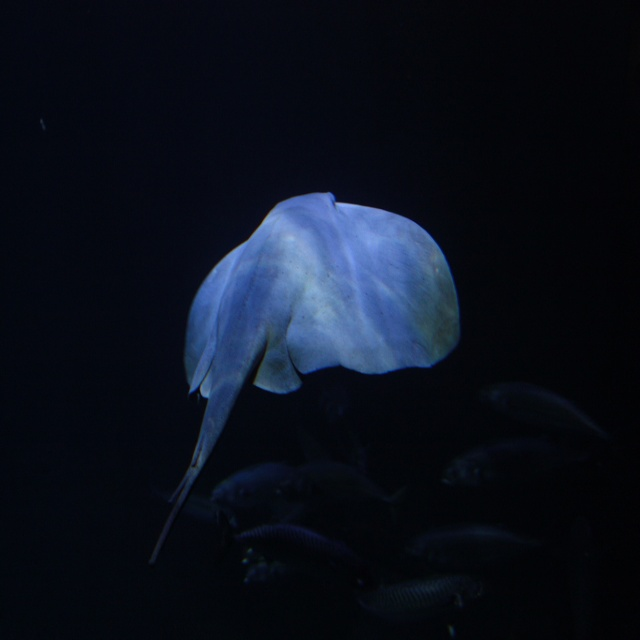Jellyfish: (150, 187, 463, 568)
